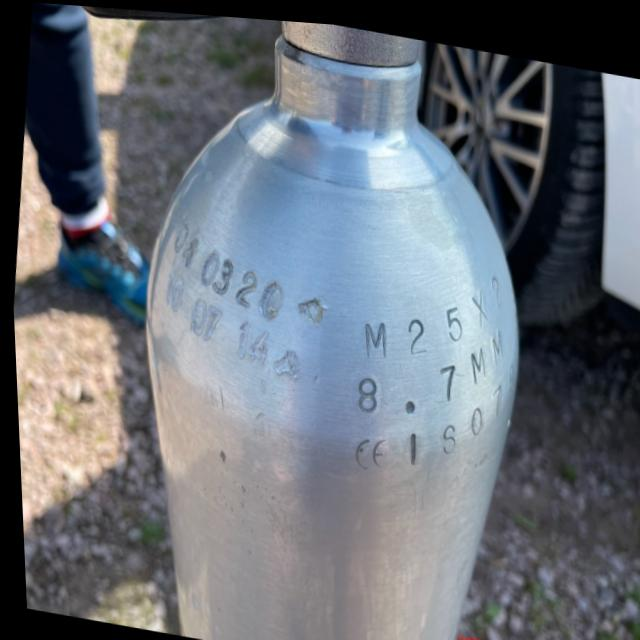ocr: (164, 205, 294, 335), (152, 252, 279, 378), (358, 261, 507, 356), (398, 354, 514, 469), (429, 315, 505, 405), (349, 360, 387, 422), (394, 381, 419, 415)
